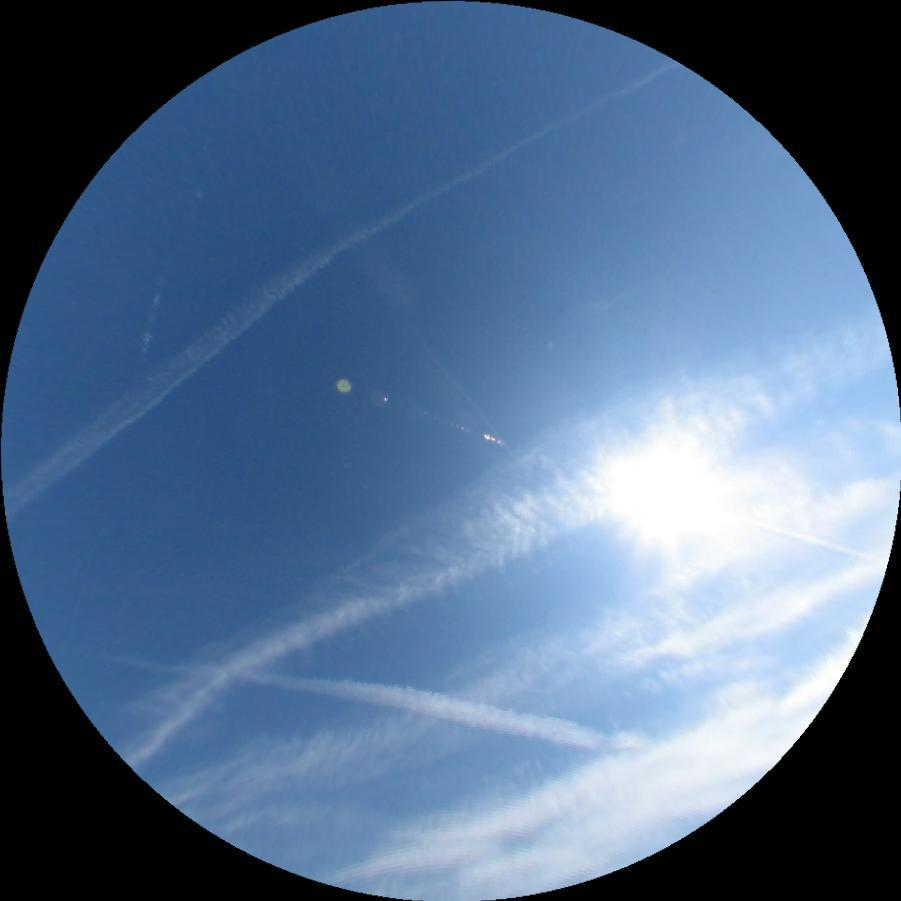contrail veryold: (80, 263, 901, 777), (108, 637, 654, 758)
parasite: (722, 513, 887, 563), (139, 275, 163, 356)
sun: (622, 445, 736, 545)
